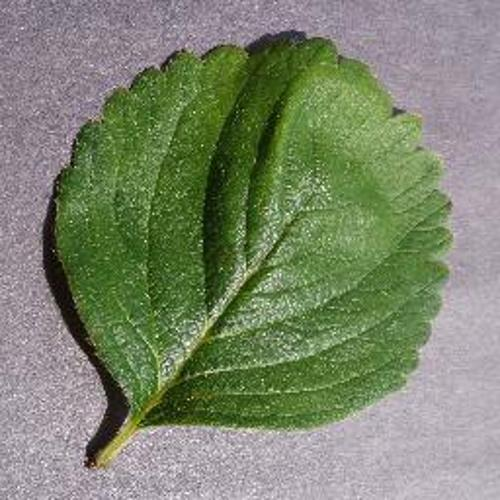Strawberry: (55, 35, 451, 467)
